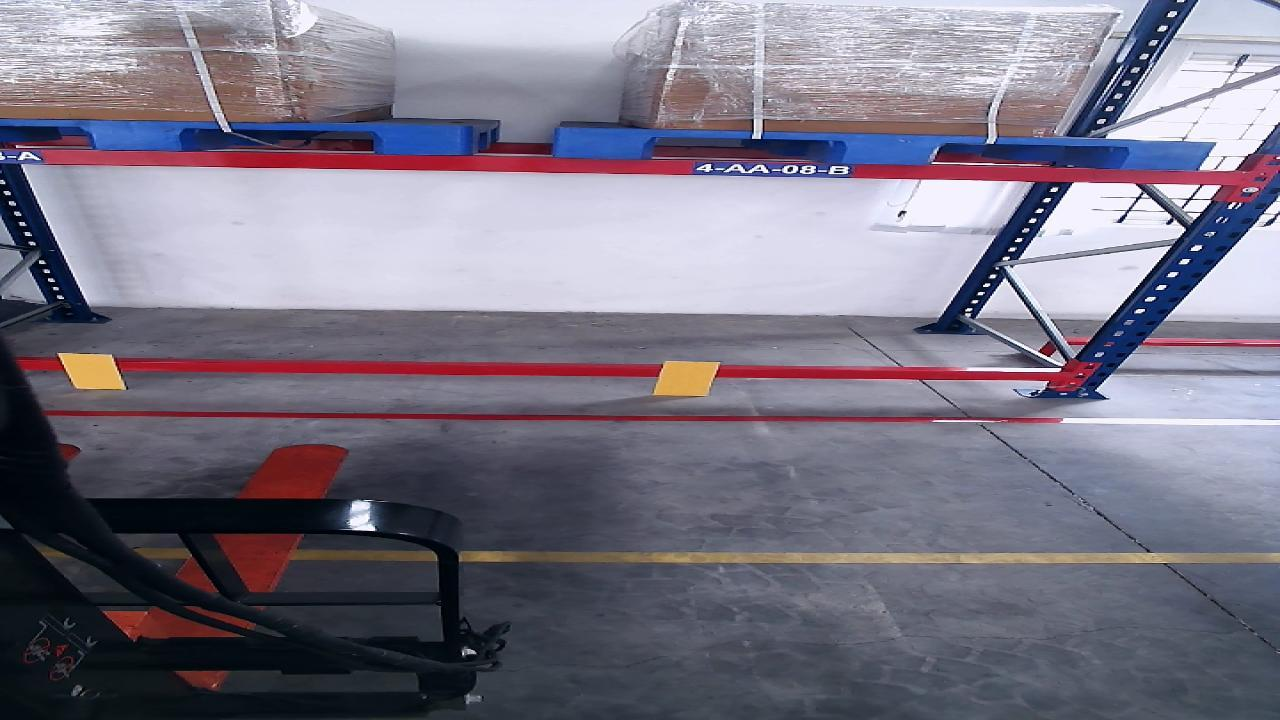h_rack: (4, 148, 1244, 186), (14, 360, 1057, 381)
orange_strip: (59, 353, 125, 387), (659, 361, 722, 394)
red_line: (46, 410, 1279, 426)
small_pallet: (552, 128, 1212, 169), (6, 120, 466, 155)
yellow_line: (296, 549, 1277, 562)
